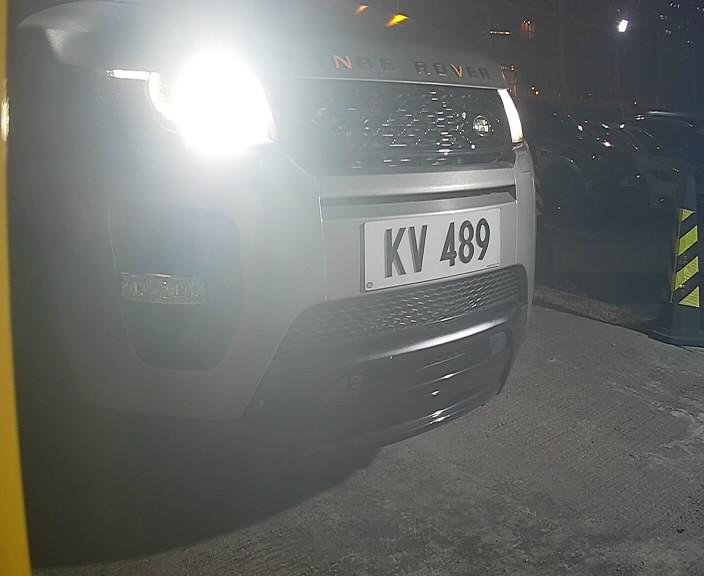Car: (7, 6, 632, 466)
License Plate: (353, 196, 519, 301)
